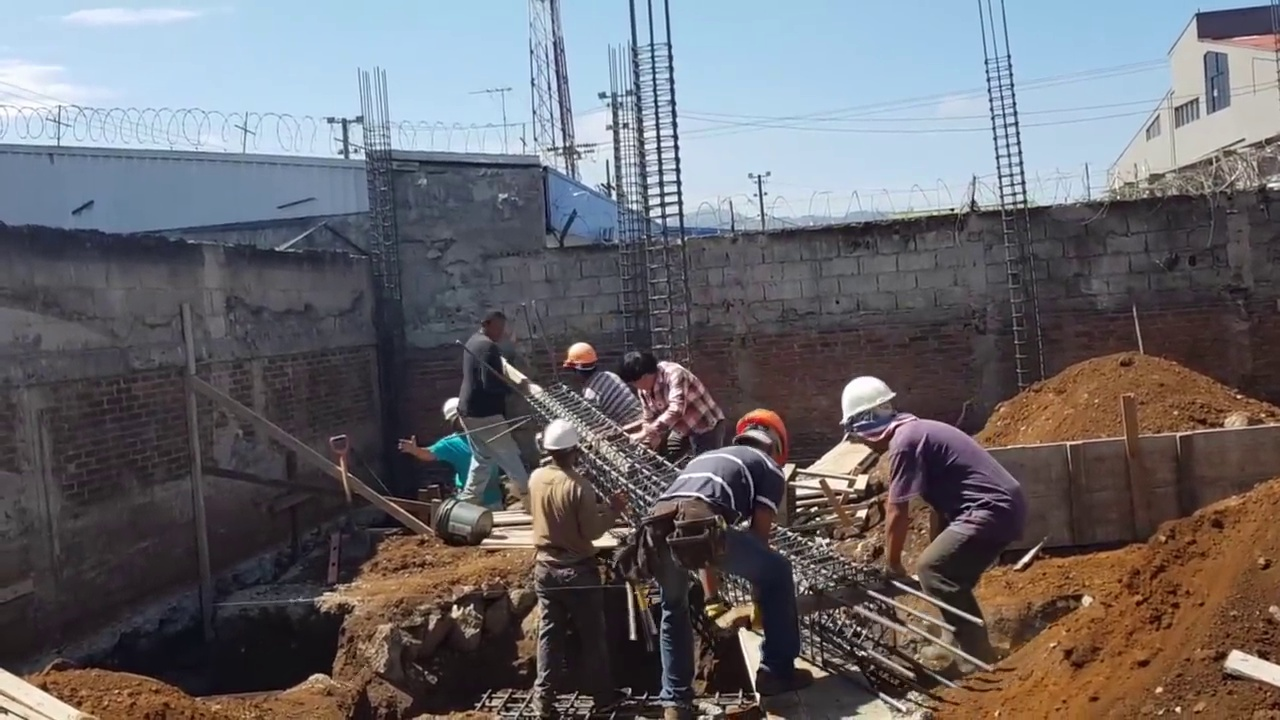helmet: (837, 377, 896, 427), (735, 407, 788, 461), (541, 418, 578, 452), (563, 341, 599, 367), (442, 397, 462, 421)
helmet-off: (618, 356, 660, 393), (475, 309, 507, 342)
helmet-on: (836, 377, 900, 450), (729, 407, 789, 471), (541, 418, 578, 470), (563, 342, 598, 385), (442, 397, 464, 434)
person: (837, 376, 1024, 667), (640, 407, 800, 719), (518, 417, 627, 716), (456, 308, 525, 512), (619, 355, 725, 457), (551, 342, 644, 434), (399, 398, 473, 493)
